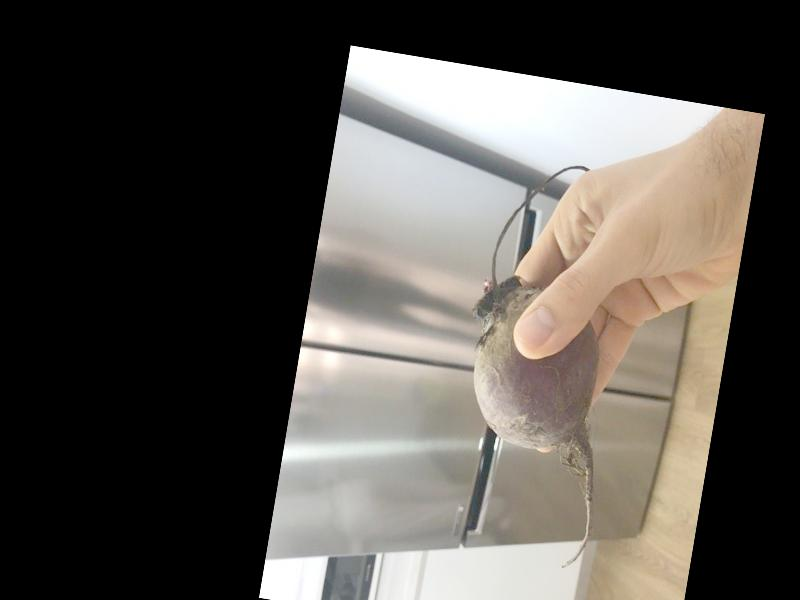Beet: (436, 153, 649, 574)
